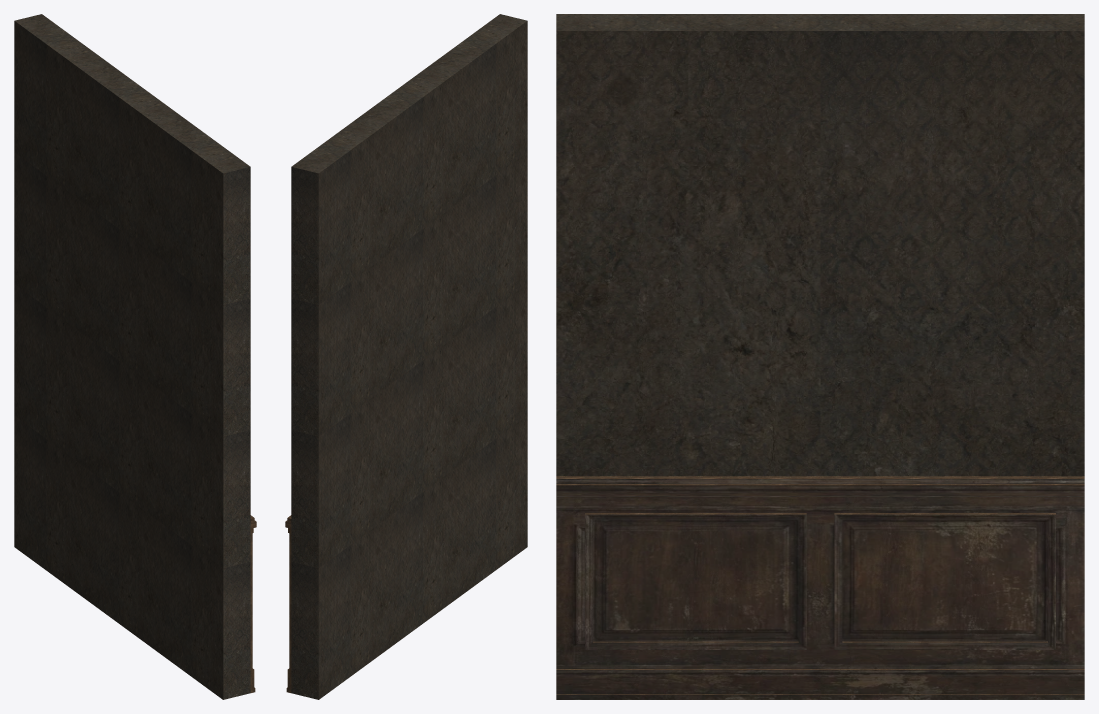
Rendered from Wall_Side_Left1.fbx.
3 views of the same model, side by side, from view 1: azimuth 30°, elevation 25°; view 2: azimuth 150°, elevation 25°; view 3: azimuth 270°, elevation 25° (orthographic). The views are drawn at different scales.
Parts seen in each view (by area): view 1: Wall_Side_Left1; view 2: Wall_Side_Left1; view 3: Wall_Side_Left1.
Boxes of the visible parts, box(x1,y1,x2,y2) form: Wall_Side_Left1: box(14, 14, 256, 699); Wall_Side_Left1: box(285, 14, 527, 699); Wall_Side_Left1: box(556, 14, 1084, 699).
Bounding box in the file's own units: 0.425 × 6.4 × 4.6.
